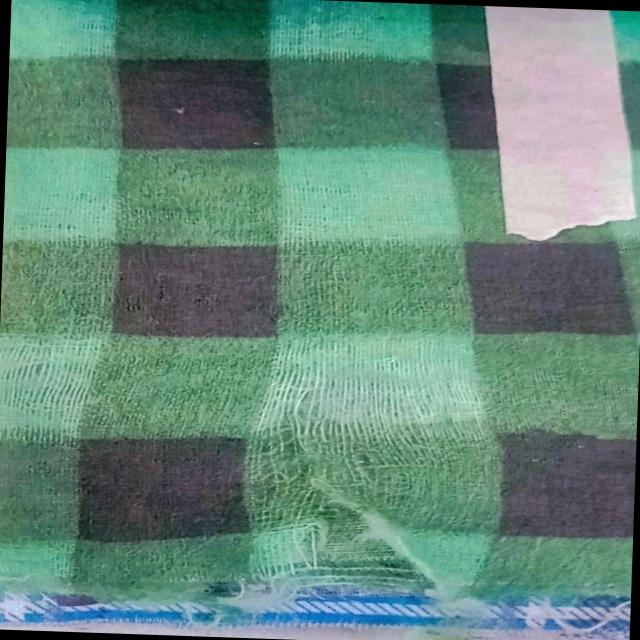cut: (231, 374, 463, 622)
